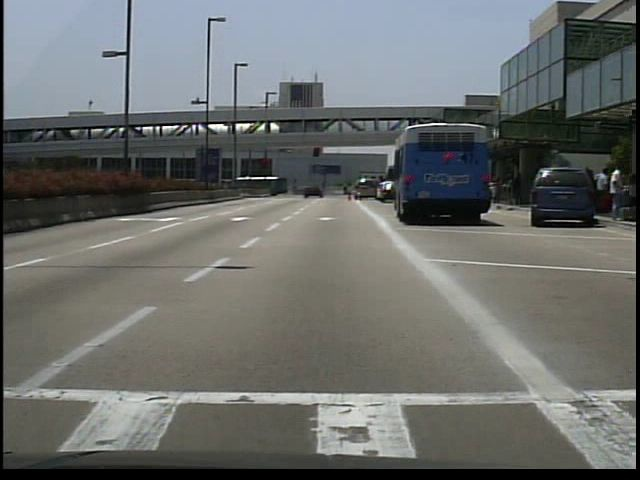person: (610, 163, 628, 221), (513, 171, 525, 207), (595, 167, 611, 190), (342, 183, 354, 198), (322, 184, 331, 199)
